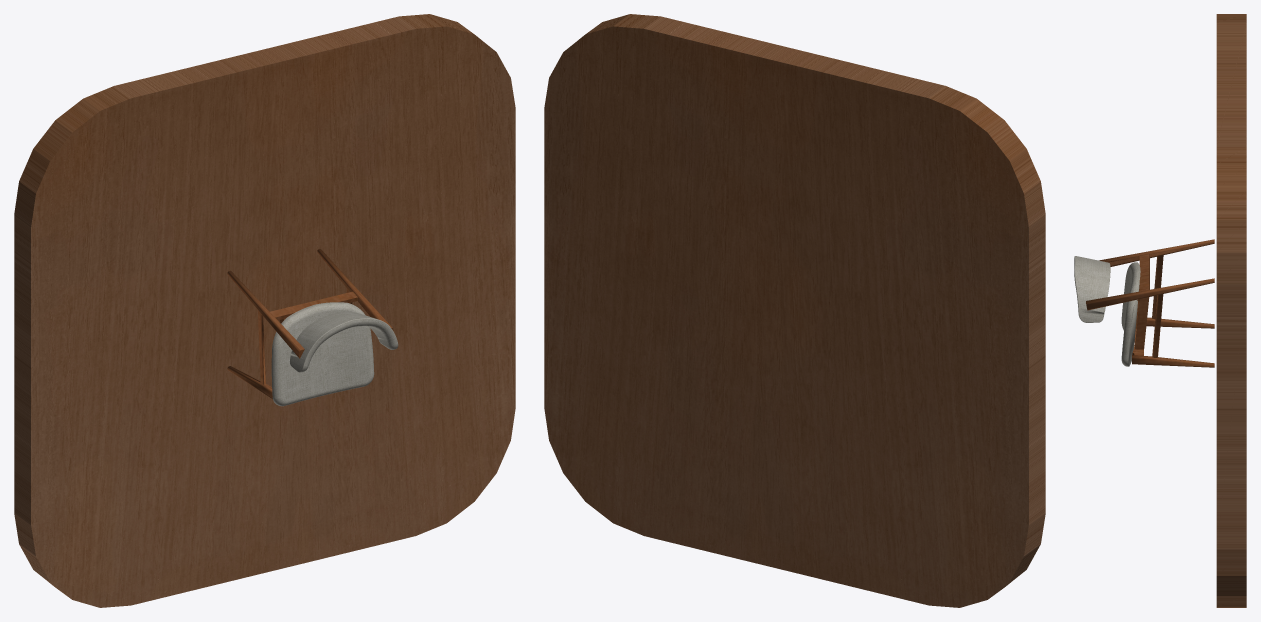
3 views of the same model, side by side, from view 1: azimuth 30°, elevation 25°; view 2: azimuth 150°, elevation 25°; view 3: azimuth 270°, elevation 25° (orthographic). The views are drawn at different scales.
Parts seen in each view (by area): view 1: Plane, C-ACENTO CAD.STL, C-ESTRUTURA CAD.STL, C-ENCOSTO CAD.STL; view 2: Plane; view 3: Plane, C-ESTRUTURA CAD.STL, C-ENCOSTO CAD.STL, C-ACENTO CAD.STL.
Part boxes in pixels (x1,y1,x2,y2): Plane: [14, 14, 515, 607]; C-ACENTO CAD.STL: [271, 302, 374, 406]; C-ESTRUTURA CAD.STL: [227, 249, 393, 398]; C-ENCOSTO CAD.STL: [290, 312, 398, 372]; Plane: [544, 14, 1045, 607]; Plane: [1216, 14, 1246, 607]; C-ESTRUTURA CAD.STL: [1086, 239, 1214, 367]; C-ENCOSTO CAD.STL: [1074, 256, 1110, 322]; C-ACENTO CAD.STL: [1121, 262, 1140, 366].
Bounding box in the file's own units: 2.6 × 2.6 × 0.8995.
Materials: 3 (3 with a texture image).
